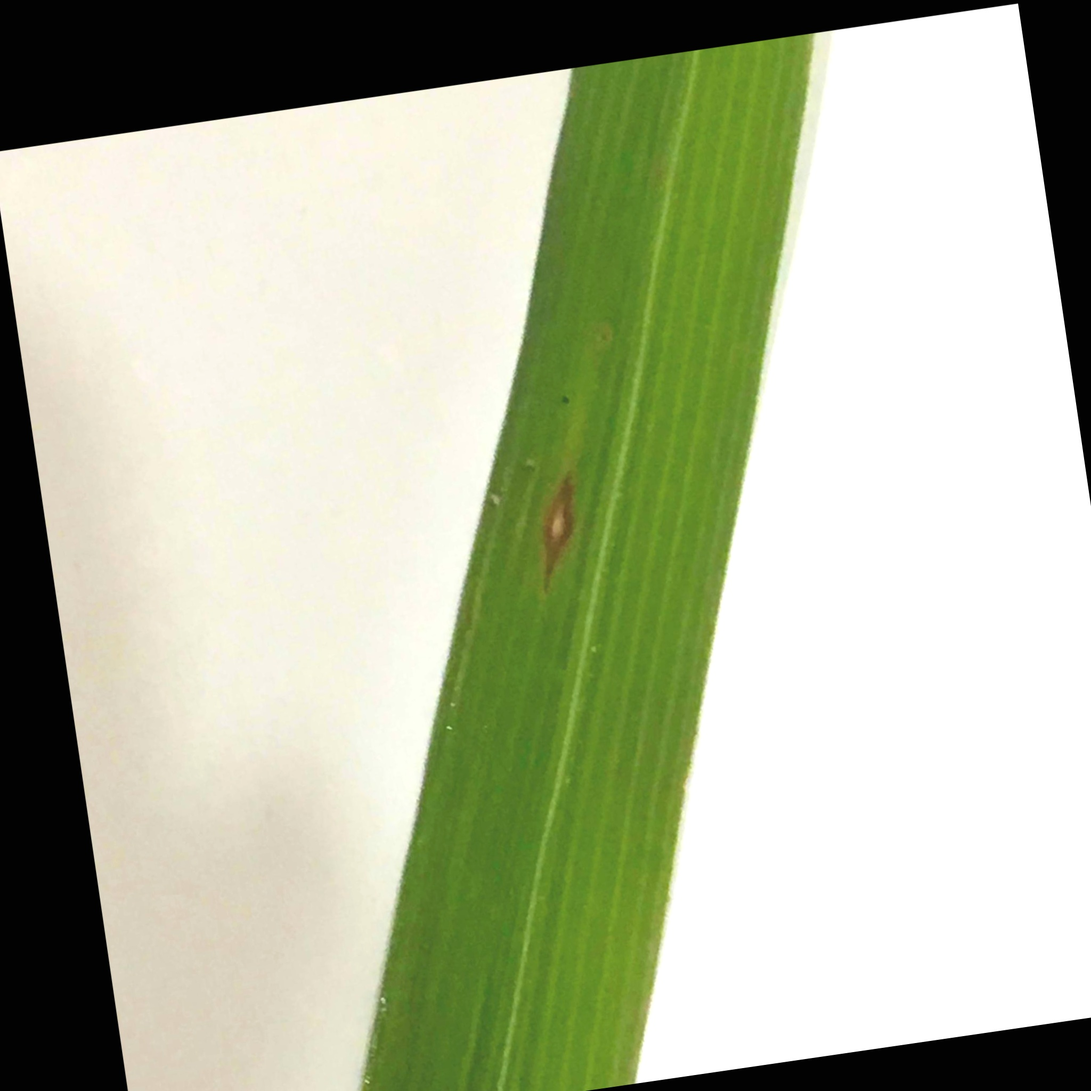Brown_Spot: (521, 409, 590, 604)
